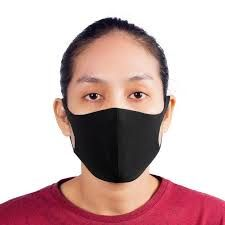with-mask: (51, 28, 182, 184)
